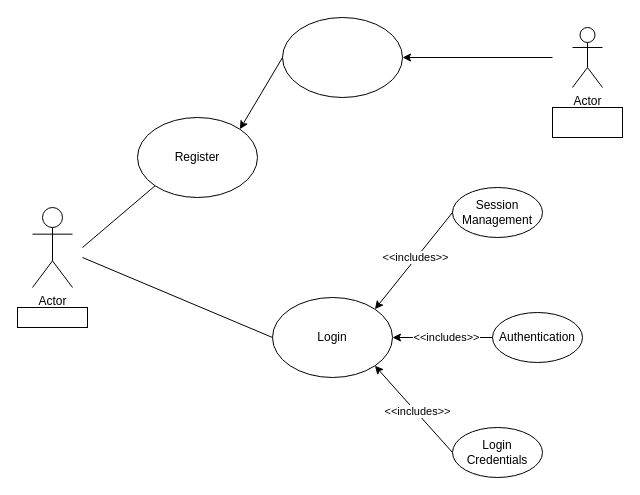
This 640x495 diagram has some shape labels left out. Each missing label, with the box of its shape:
ADMIN: (552, 106, 622, 138)
Authenticate: (282, 16, 402, 98)
USER: (16, 306, 88, 328)
